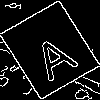A: (25, 25, 81, 82)
